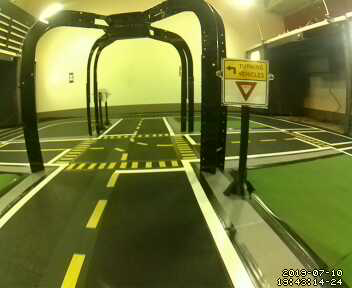Turn Yield: (222, 58, 271, 106)
